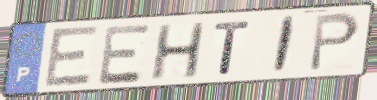E: (42, 25, 101, 92), (97, 22, 153, 87)
H: (148, 20, 207, 82)
I: (270, 14, 299, 76)
P: (306, 11, 362, 74)
T: (213, 19, 253, 77)
